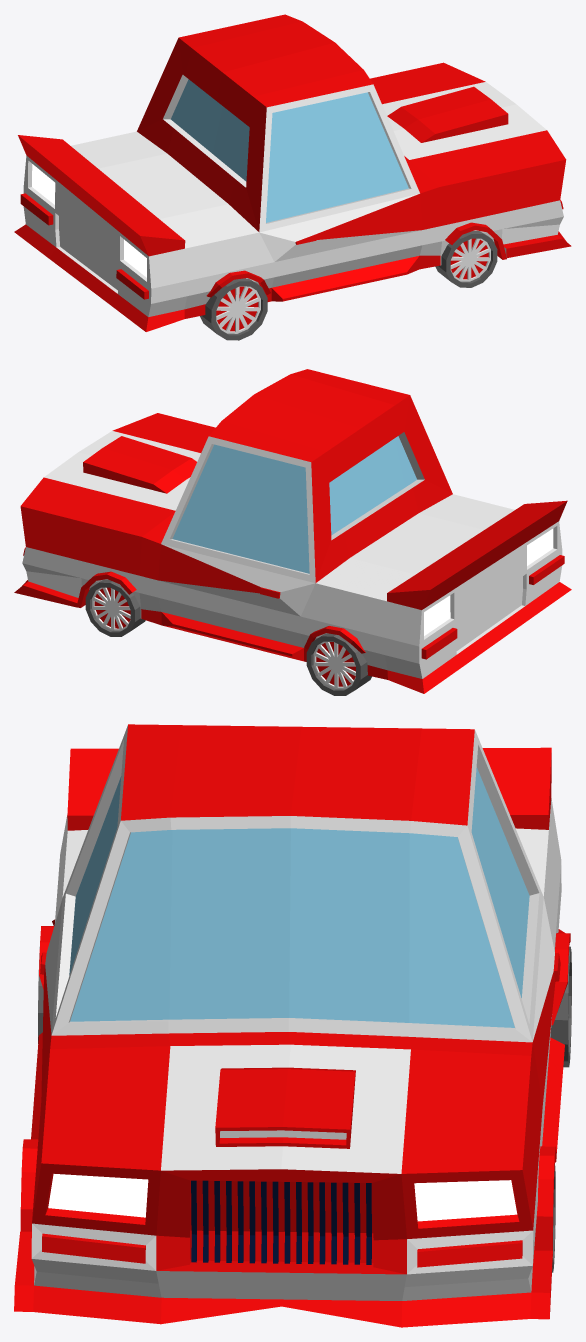
File: car.fbx
3 renders of one model, top to bottom at view 1: azimuth 30°, elevation 25°; view 2: azimuth 150°, elevation 25°; view 3: azimuth 270°, elevation 25°, orthographic. The views are drawn at different scales.
Parts seen in each view (by area): view 1: Low_Poly_Racing_Car:body, Low_Poly_Racing_Car:wheel_1, Low_Poly_Racing_Car:wheel1_1, Low_Poly_Racing_Car:backlight, Low_Poly_Racing_Car:front_fender, Low_Poly_Racing_Car:rear_fender; view 2: Low_Poly_Racing_Car:body, Low_Poly_Racing_Car:wheel_1, Low_Poly_Racing_Car:wheel1_1, Low_Poly_Racing_Car:backlight, Low_Poly_Racing_Car:front_fender, Low_Poly_Racing_Car:rear_fender; view 3: Low_Poly_Racing_Car:body, Low_Poly_Racing_Car:lattice_1, Low_Poly_Racing_Car:headlight, Low_Poly_Racing_Car:front_fender, Low_Poly_Racing_Car:wheel_1, Low_Poly_Racing_Car:rear_fender.
Part boxes in pixels (bbox=[...]): Low_Poly_Racing_Car:body: bbox=[14, 14, 571, 331]; Low_Poly_Racing_Car:wheel_1: bbox=[200, 278, 267, 340]; Low_Poly_Racing_Car:wheel1_1: bbox=[435, 231, 497, 287]; Low_Poly_Racing_Car:backlight: bbox=[32, 164, 146, 277]; Low_Poly_Racing_Car:front_fender: bbox=[445, 222, 506, 259]; Low_Poly_Racing_Car:rear_fender: bbox=[206, 270, 270, 297]; Low_Poly_Racing_Car:body: bbox=[14, 369, 571, 693]; Low_Poly_Racing_Car:wheel_1: bbox=[306, 633, 371, 695]; Low_Poly_Racing_Car:wheel1_1: bbox=[85, 580, 145, 636]; Low_Poly_Racing_Car:backlight: bbox=[424, 528, 553, 635]; Low_Poly_Racing_Car:front_fender: bbox=[77, 571, 136, 607]; Low_Poly_Racing_Car:rear_fender: bbox=[304, 626, 365, 653]; Low_Poly_Racing_Car:body: bbox=[14, 724, 565, 1327]; Low_Poly_Racing_Car:lattice_1: bbox=[191, 1180, 371, 1264]; Low_Poly_Racing_Car:headlight: bbox=[48, 1174, 517, 1221]; Low_Poly_Racing_Car:front_fender: bbox=[20, 1139, 556, 1256]; Low_Poly_Racing_Car:wheel_1: bbox=[38, 946, 571, 1067]; Low_Poly_Racing_Car:rear_fender: bbox=[39, 926, 570, 1025].
Size of the model in its own units: 17.7 by 8.11 by 10.62.
